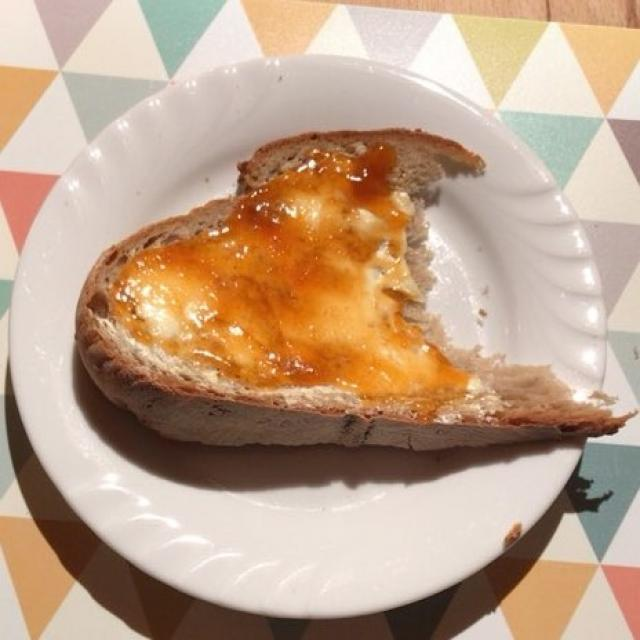bread: (83, 128, 597, 438)
jam: (102, 145, 479, 402)
